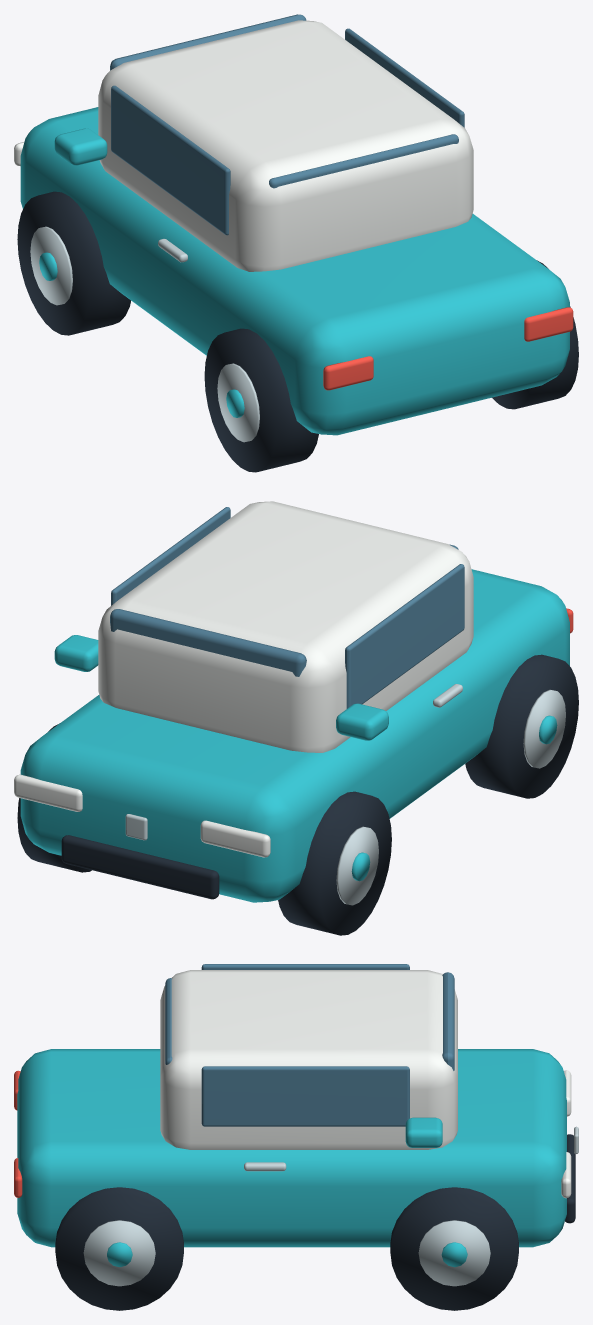
The model's file is city_car.glb.
3 views of the same model, one above another, from view 1: azimuth 30°, elevation 25°; view 2: azimuth 150°, elevation 25°; view 3: azimuth 270°, elevation 25° (orthographic). The views are drawn at different scales.
Visible parts, largest first — view 1: Sculpted lower body, Ivory cabin, Car wheel tyre.003, Car wheel tyre.002, Side window.001, Car wheel rim.007, Car wheel rim.005, Rear glass, Car wheel tyre.001, Side window, Mirror.001, Panoramic front glass (+2 smaller); view 2: Sculpted lower body, Ivory cabin, Car wheel tyre.002, Car wheel tyre.003, Side window.001, Front grille, Panoramic front glass, Car wheel rim.005, Car wheel rim.007, Side window, LED headlamp.001, LED headlamp (+3 smaller); view 3: Sculpted lower body, Ivory cabin, Side window, Car wheel tyre.001, Car wheel tyre, Car wheel rim, Car wheel rim.002, Side window.001, Mirror, Panoramic front glass, Rear glass, Front grille (+2 smaller).
Boxes of the visible parts, x1,y1,x2,y2 form: Sculpted lower body: (20,107,569,435); Ivory cabin: (98,20,473,271); Car wheel tyre.003: (204,328,318,472); Car wheel tyre.002: (17,191,130,335); Side window.001: (111,85,230,235); Car wheel rim.007: (217,363,259,442); Car wheel rim.005: (30,226,72,305); Rear glass: (269,134,458,188); Car wheel tyre.001: (492,260,578,409); Side window: (345,28,464,127); Mirror.001: (54,128,107,165); Panoramic front glass: (110,14,306,70); Sculpted lower body: (20,569,569,902); Ivory cabin: (98,501,473,752); Car wheel tyre.002: (278,791,391,935); Car wheel tyre.003: (465,654,578,798); Side window.001: (345,564,464,708); Front grille: (61,835,219,899); Panoramic front glass: (110,609,306,676); Car wheel rim.005: (336,826,378,905); Car wheel rim.007: (523,689,565,768); Side window: (111,507,230,605); LED headlamp.001: (200,820,270,857); LED headlamp: (14,774,82,811); Sculpted lower body: (17,1049,566,1247); Ivory cabin: (160,970,457,1149); Side window: (201,1066,409,1126); Car wheel tyre.001: (55,1187,183,1310); Car wheel tyre: (390,1187,518,1310); Car wheel rim: (418,1220,490,1286); Car wheel rim.002: (83,1220,155,1286); Side window.001: (201,964,409,969); Mirror: (405,1117,442,1147); Panoramic front glass: (442,972,454,1070); Rear glass: (165,978,172,1064); Front grille: (565,1134,575,1223).
Size of the model in its own units: 1.95 by 1.52 by 3.34.
